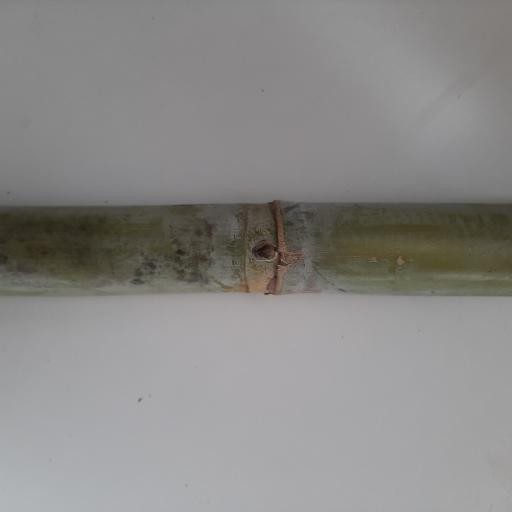Bud: (253, 238, 278, 260)
